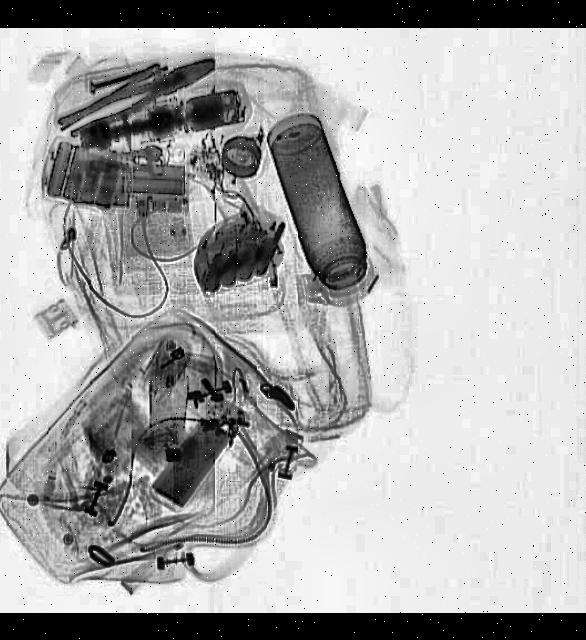Pliers: (57, 42, 223, 148)
